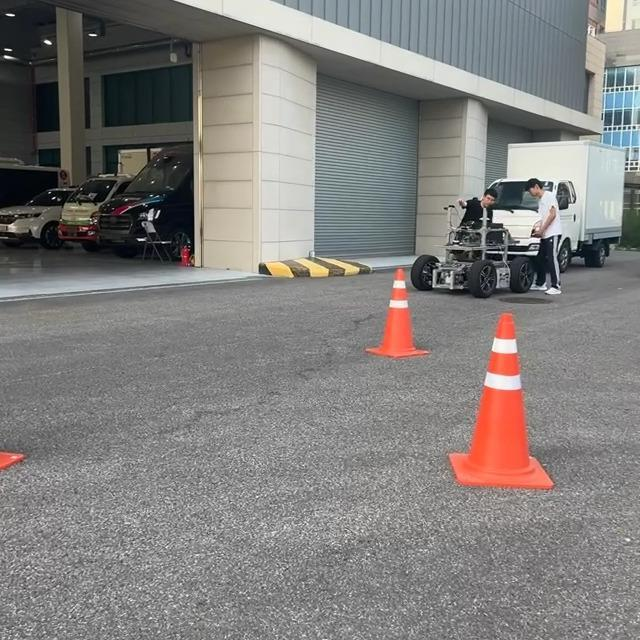fallen_object: (459, 292, 585, 531), (346, 247, 437, 399), (0, 433, 59, 512)
